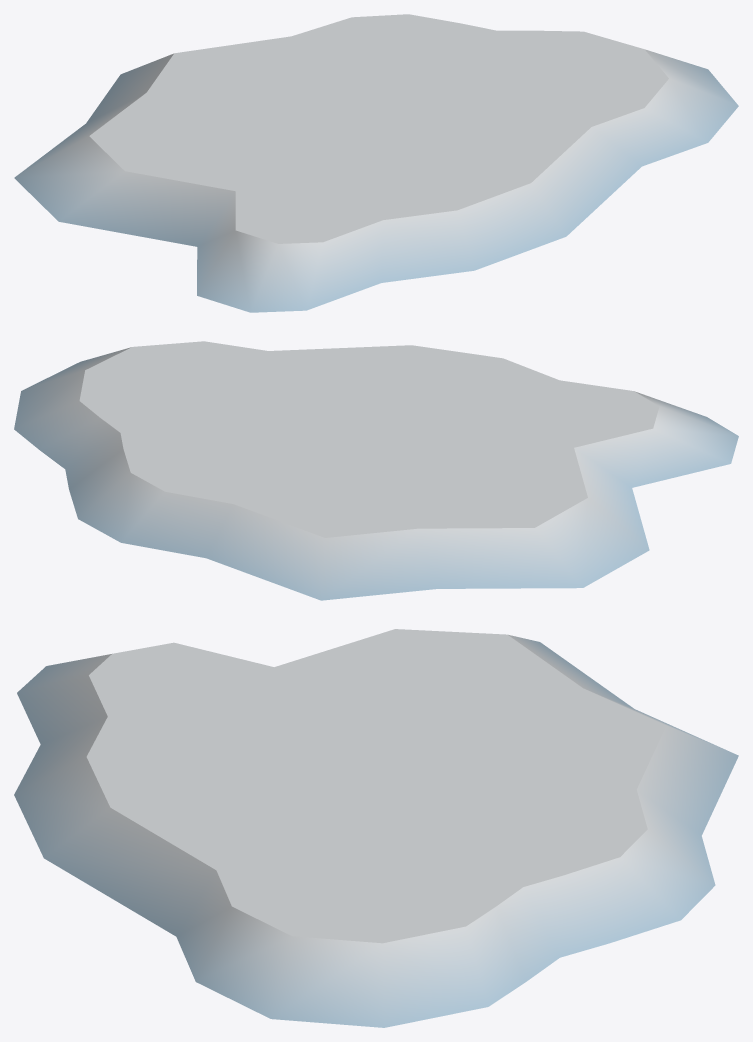
The model's file is snow-flat.glb.
3 renders of one model, top to bottom at view 1: azimuth 30°, elevation 25°; view 2: azimuth 150°, elevation 25°; view 3: azimuth 270°, elevation 25°, orthographic. The views are drawn at different scales.
Visible parts, largest first — view 1: snow-flat; view 2: snow-flat; view 3: snow-flat.
Part boxes in pixels (box(x1,y1,x2,y2)): snow-flat: box(14, 14, 738, 312); snow-flat: box(14, 341, 738, 600); snow-flat: box(14, 629, 738, 1027).
Size of the model in its own units: 1.86 by 0.1 by 1.45.
